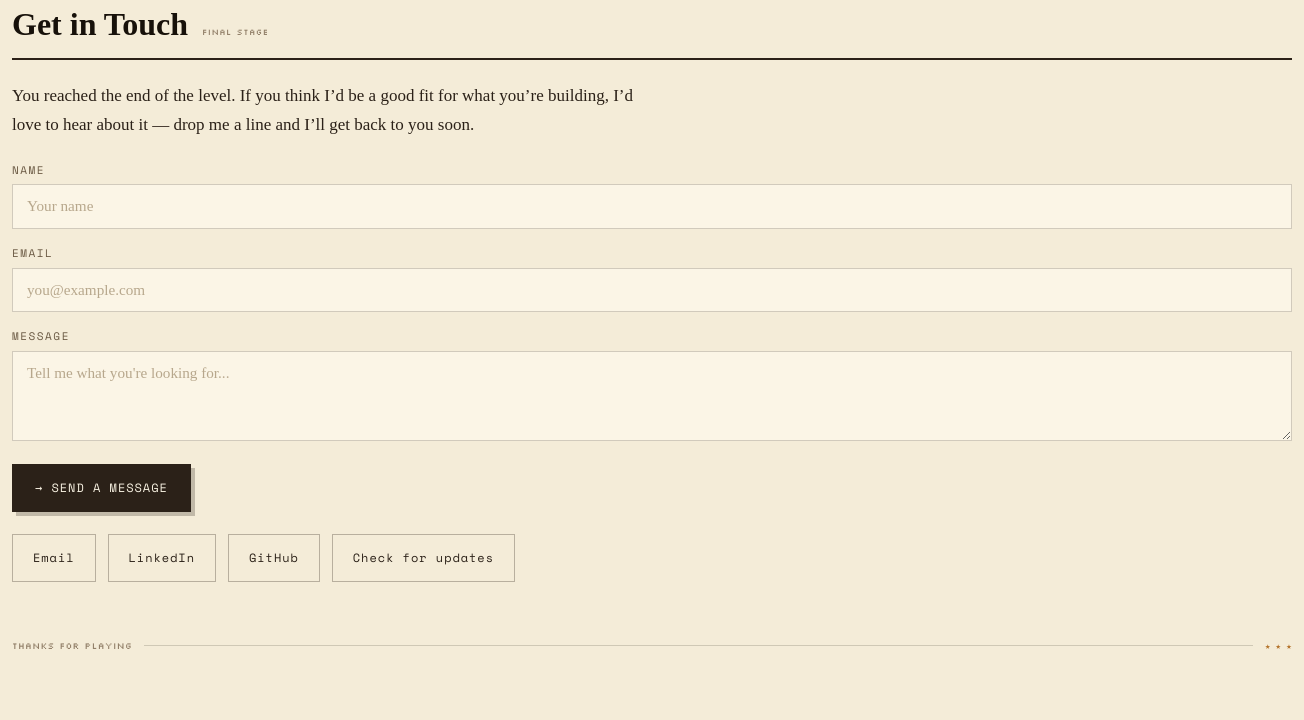
Scenario: CvContact › runs a manual update check and shows the plain-language result
Click the button "Check for updates": (423,558) x1=332 y1=534 x2=515 y2=582
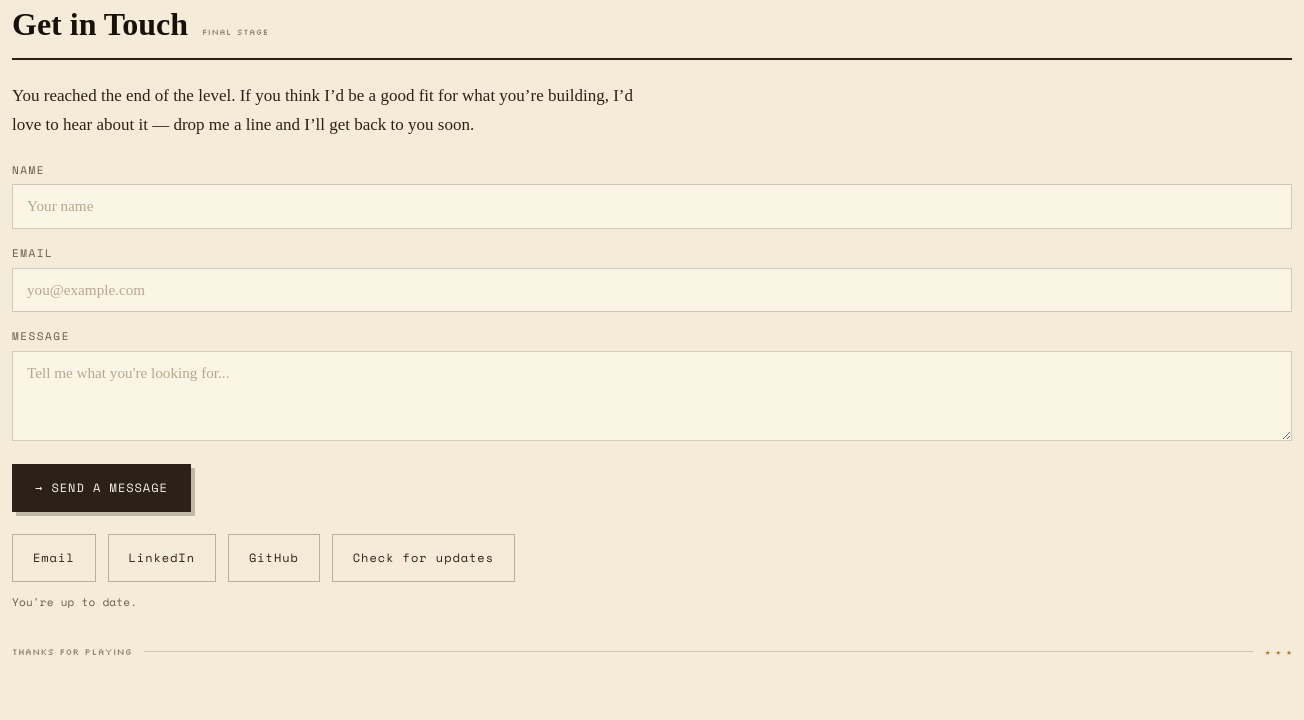
Expected: the text "You're up to date." is shown, x1=12 y1=594 x2=137 y2=610
